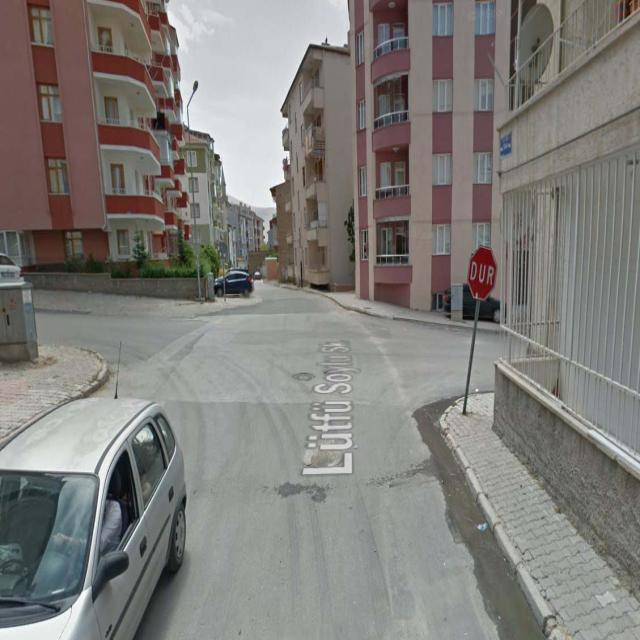dur: (468, 246, 496, 300)
